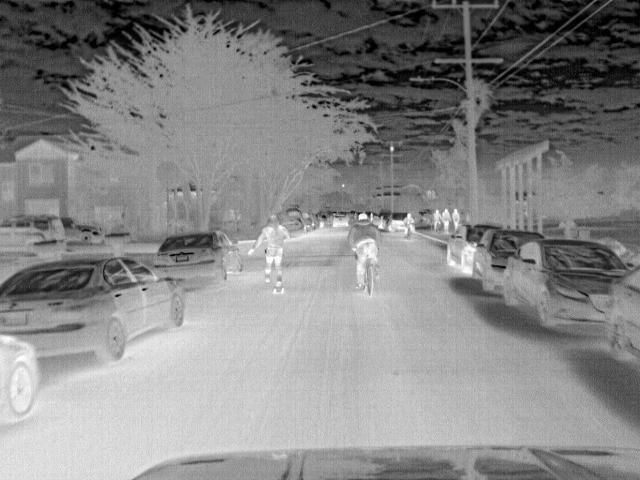car: (3, 256, 188, 363), (503, 237, 631, 333), (472, 229, 544, 296), (152, 232, 245, 282), (1, 332, 37, 425), (444, 221, 503, 277), (606, 265, 640, 360), (1, 215, 69, 250), (62, 214, 107, 246), (277, 206, 307, 236), (332, 213, 349, 228)
person: (247, 213, 290, 289), (346, 212, 380, 288), (400, 212, 418, 234), (451, 206, 463, 236), (440, 207, 453, 234)
